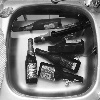beer: (24, 36, 43, 89)
